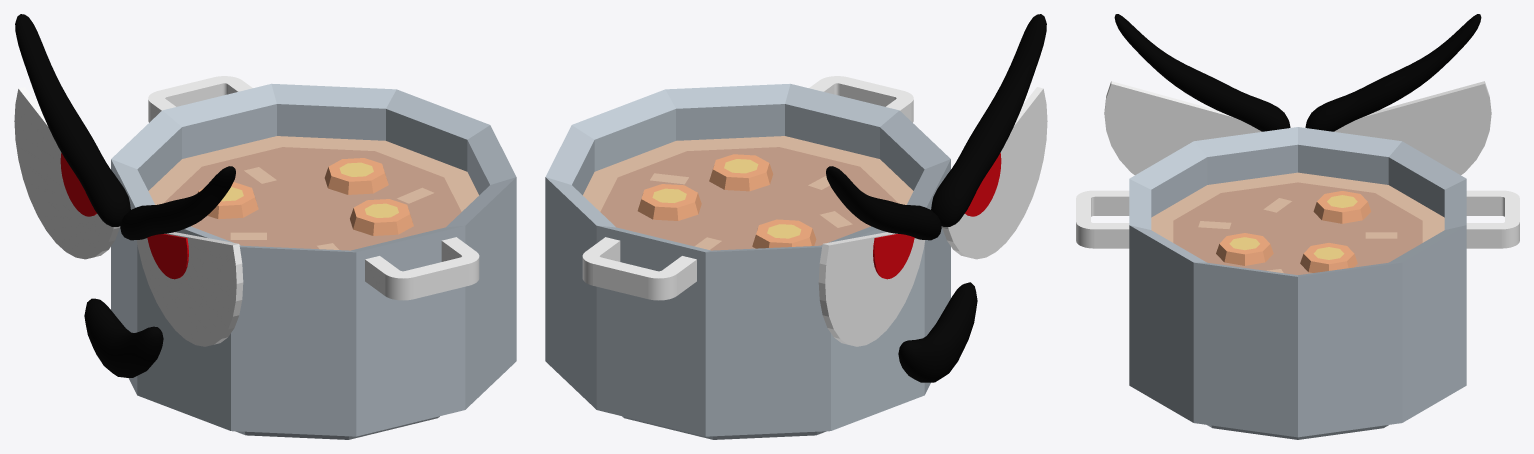
The model's file is Pot V1.fbx.
3 renders of one model, left to right at view 1: azimuth 30°, elevation 25°; view 2: azimuth 150°, elevation 25°; view 3: azimuth 270°, elevation 25°, orthographic. The views are drawn at different scales.
Parts seen in each view (by area): view 1: potStew.004; view 2: potStew.004; view 3: potStew.004.
Part boxes in pixels (<box>): potStew.004: <box>14,14,516,439</box>; potStew.004: <box>545,14,1047,439</box>; potStew.004: <box>1076,14,1519,439</box>.
Bounding box in the file's own units: 71.06 × 58.05 × 82.21.
